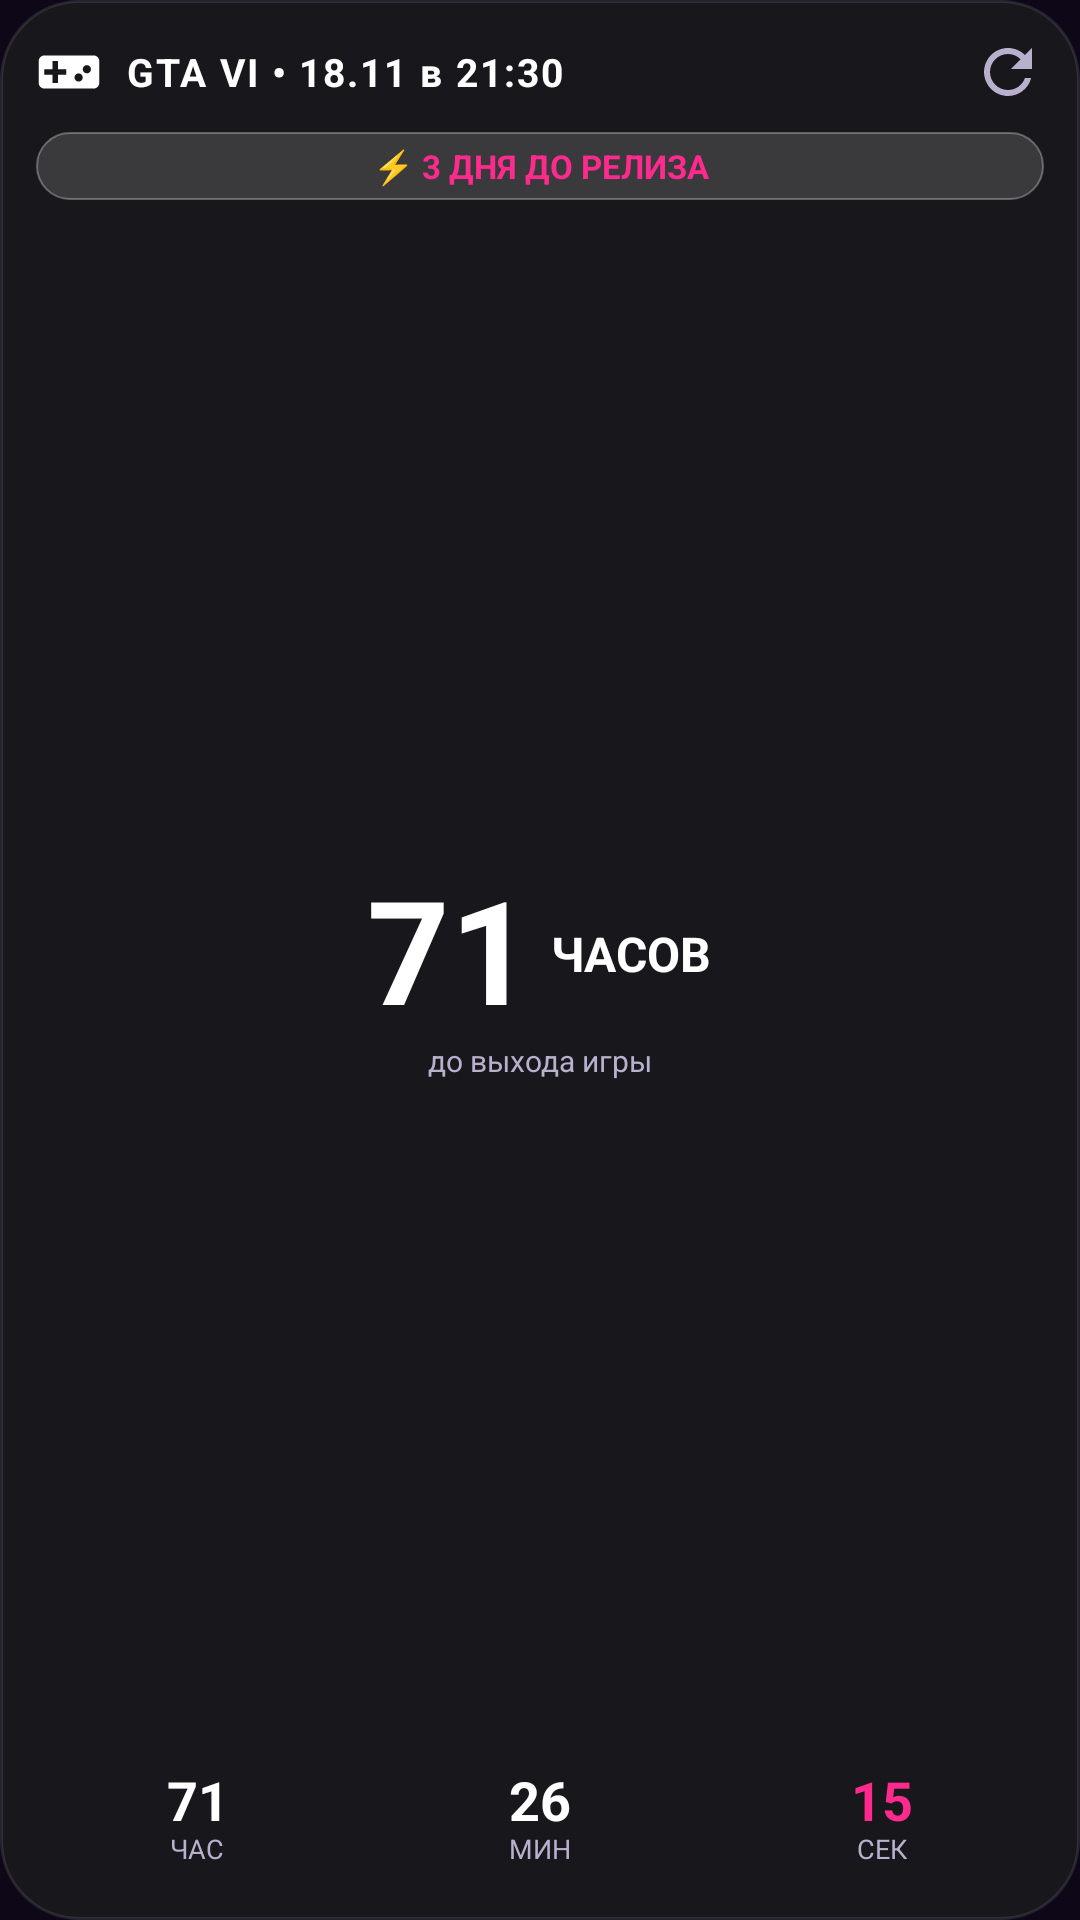

Screen size 1080 × 1920. Icon name, then its box in pixels as bbox=(x1, y1, x2, y2):
gamepad: bbox=(38, 55, 100, 89)
Refresh: bbox=(984, 48, 1032, 96)
